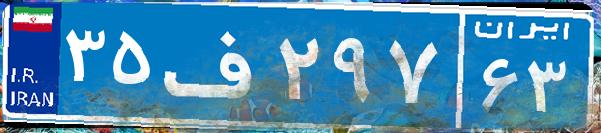2: (273, 28, 330, 110)
3: (57, 26, 110, 107), (525, 38, 570, 115)
5: (110, 28, 158, 105)
6: (475, 38, 525, 113)
7: (385, 28, 445, 110)
9: (330, 28, 385, 110)
ف: (158, 15, 273, 115)
